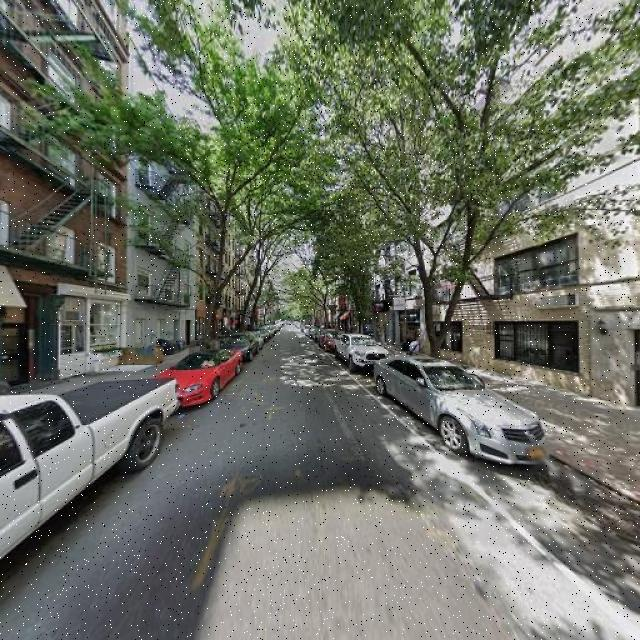Building: (425, 1, 640, 407), (1, 1, 124, 404)
